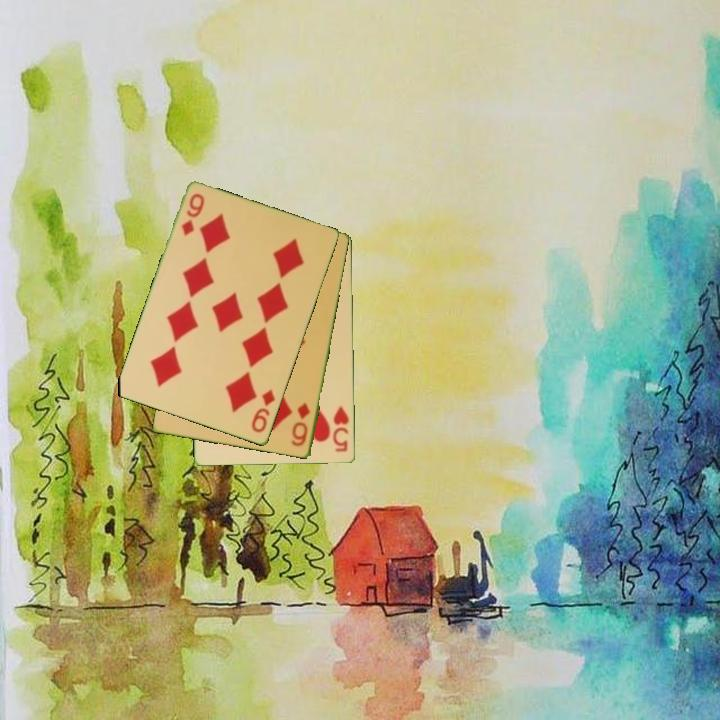5h: (329, 403, 352, 455)
6d: (288, 399, 313, 450)
9d: (248, 386, 278, 436), (178, 190, 208, 239)
